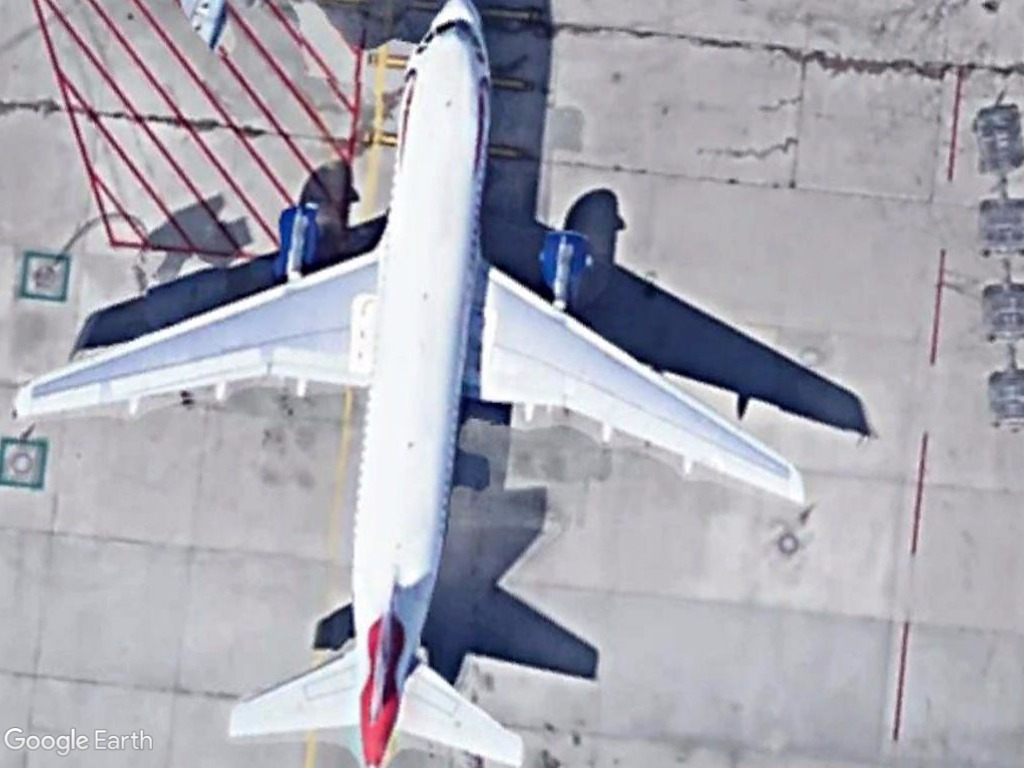airliner: (18, 0, 810, 768)
